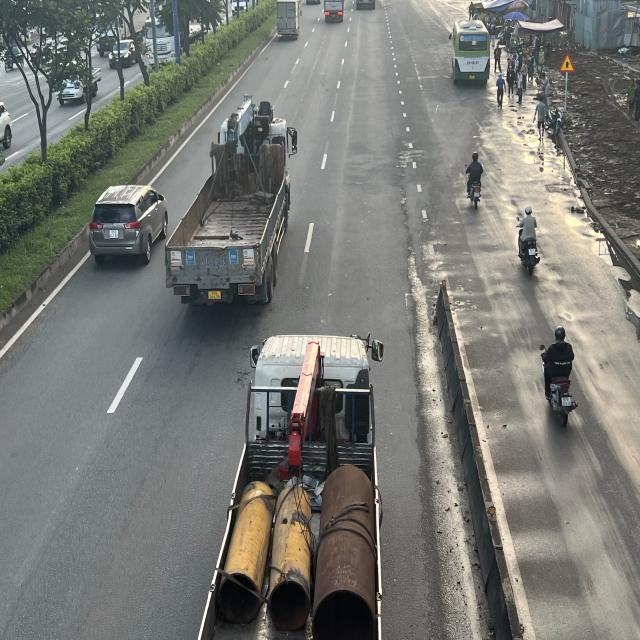car: (91, 184, 172, 268)
coach: (450, 20, 492, 85)
truck: (189, 330, 389, 640), (164, 94, 297, 316), (275, 0, 301, 39)
